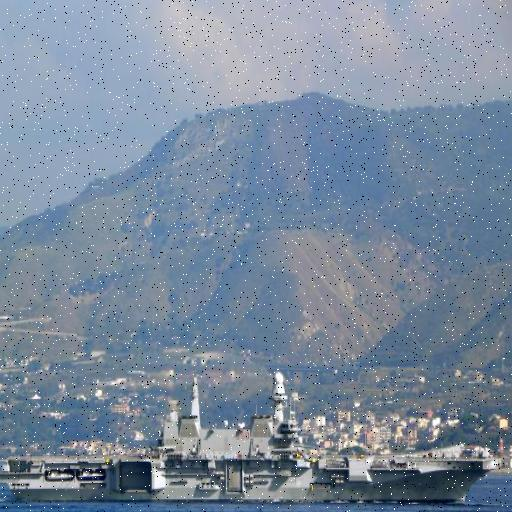Portanaves: (1, 360, 503, 509)
